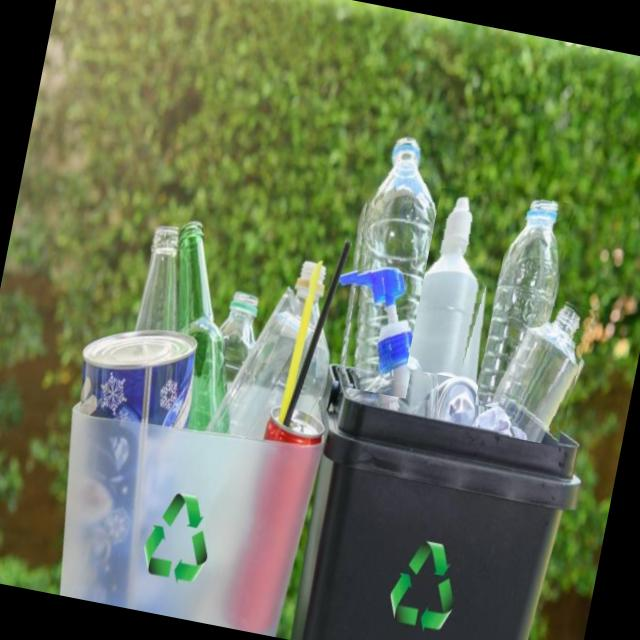plastic bottle: (327, 128, 455, 398), (474, 194, 574, 418), (406, 188, 511, 382), (492, 289, 595, 449)
